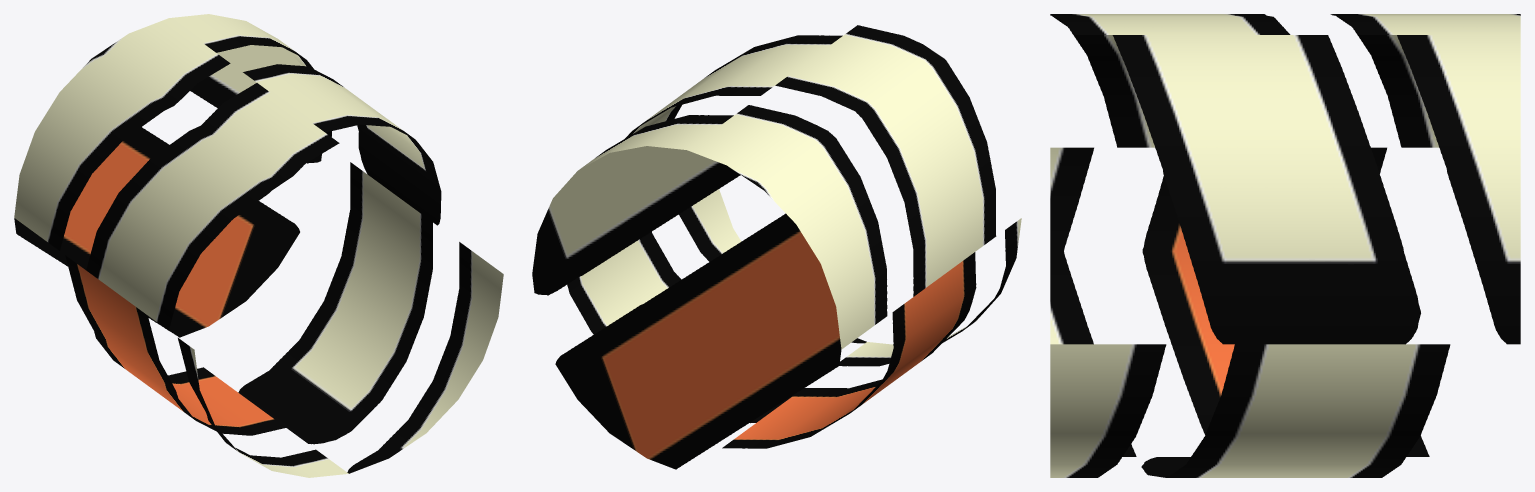
3 renders of one model, left to right at view 1: azimuth 30°, elevation 25°; view 2: azimuth 150°, elevation 25°; view 3: azimuth 270°, elevation 25°, orthographic. The views are drawn at different scales.
Visible parts, largest first — view 1: pzt; view 2: pzt; view 3: pzt.
Boxes of the visible parts, x1,y1,x2,y2 form: pzt: [14, 14, 503, 477]; pzt: [532, 25, 1021, 469]; pzt: [1050, 14, 1520, 477].
Bounding box in the file's own units: 280 × 280 × 283.
